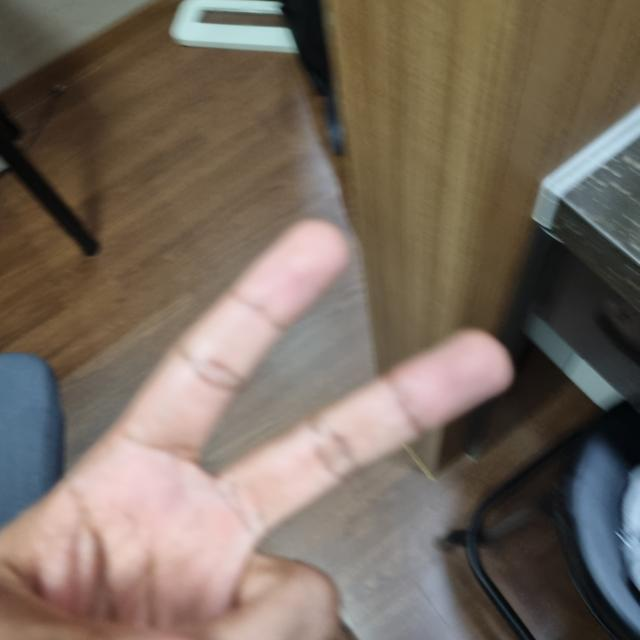Scissors: (0, 225, 513, 638)
